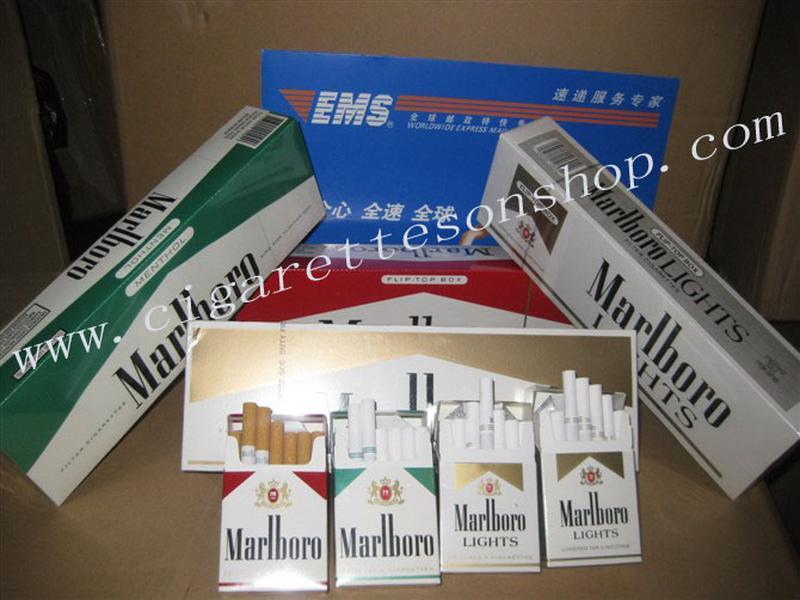marlboro_mentol: (337, 434, 435, 584)
marlboro_red: (224, 456, 328, 590)
